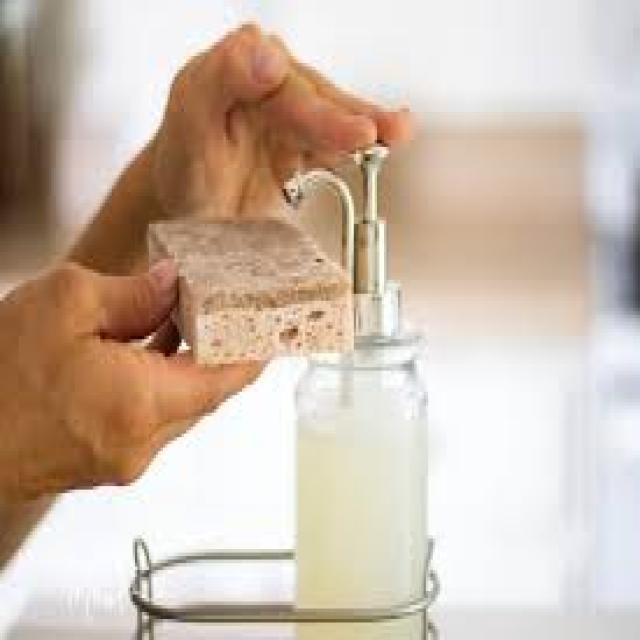liquid soap: (269, 135, 434, 622)
